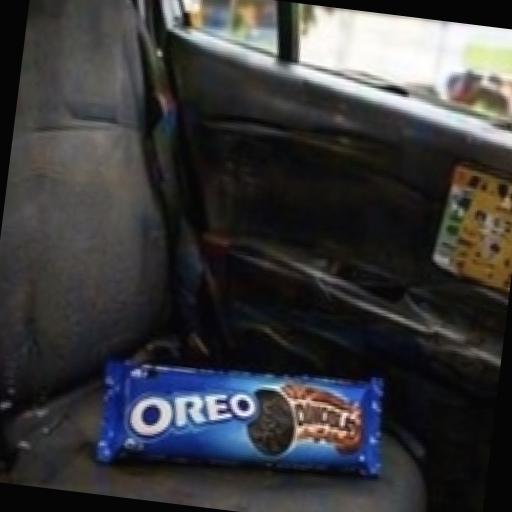oreo: (47, 273, 432, 512)
